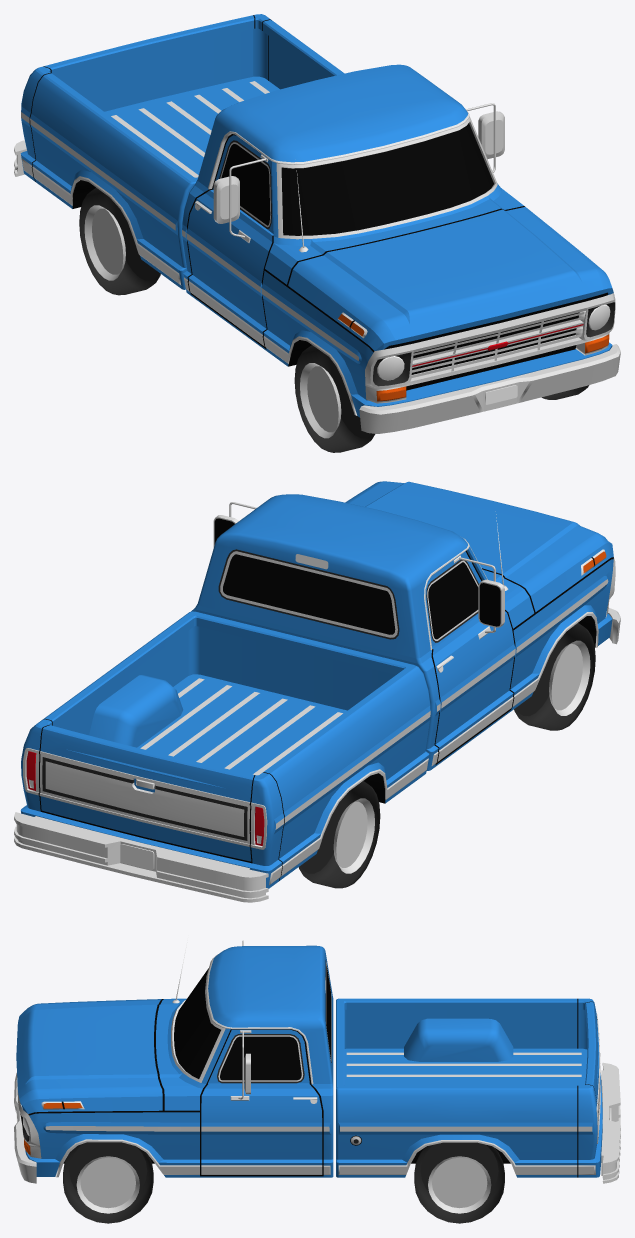
Rendered from sketchfab-fordf.fbx.
3 renders of one model, top to bottom at view 1: azimuth 30°, elevation 25°; view 2: azimuth 150°, elevation 25°; view 3: azimuth 270°, elevation 25°, orthographic. The views are drawn at different scales.
Parts seen in each view (by area): view 1: body, wheels, bump; view 2: body, wheels, bump; view 3: body, wheels, bump.
Part boxes in pixels (x1,y1,x2,y2): body: (20,14,615,417); wheels: (79,187,589,452); bump: (14,140,620,433); body: (20,481,615,888); wheels: (298,623,595,888); bump: (14,608,620,902); body: (16,940,602,1177); wheels: (63,1142,504,1223); bump: (14,1062,620,1183).
Size of the model in its own units: 207 by 173 by 464.
